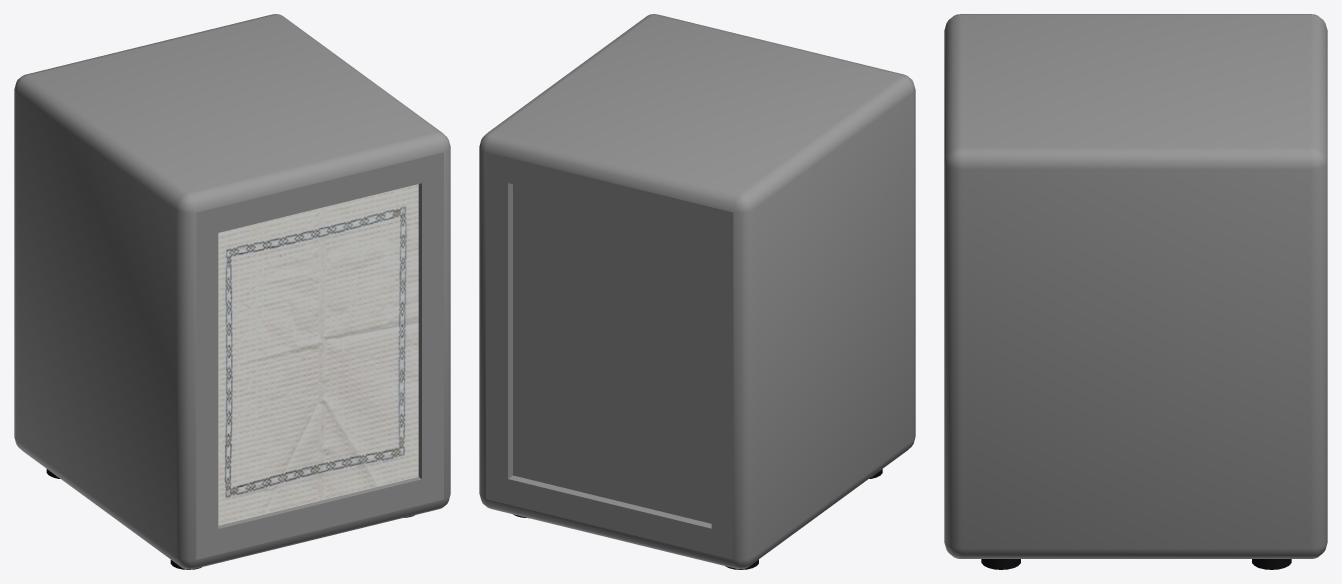
The model's file is Napkin holder.FBX.
The picture shows the model from 3 angles, left to right: view 1: azimuth 30°, elevation 25°; view 2: azimuth 150°, elevation 25°; view 3: azimuth 270°, elevation 25°; orthographic projection. The views are drawn at different scales.
Visible parts, largest first — view 1: napkin holder; view 2: napkin holder; view 3: napkin holder.
Part boxes in pixels (left/top/right/bottom): napkin holder: left=14, top=14, right=450, bottom=569; napkin holder: left=479, top=14, right=915, bottom=569; napkin holder: left=944, top=14, right=1327, bottom=569.
Size of the model in its own units: 12.54 by 17.05 by 14.
2 materials, 1 textured.
